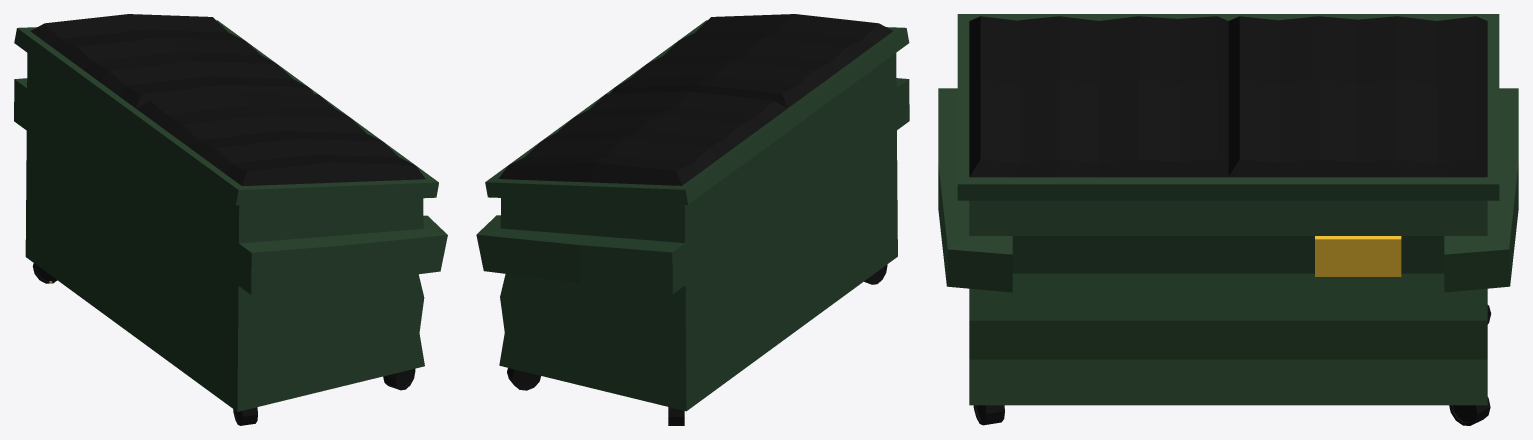
File: groemulli.fbx
3 renders of one model, left to right at view 1: azimuth 30°, elevation 25°; view 2: azimuth 150°, elevation 25°; view 3: azimuth 270°, elevation 25°, orthographic. The views are drawn at different scales.
Parts seen in each view (by area): view 1: Cube; view 2: Cube; view 3: Cube.
Boxes of the visible parts, x1,y1,x2,y2 form: Cube: [14, 14, 447, 425]; Cube: [476, 14, 909, 425]; Cube: [938, 14, 1518, 425].
Bounding box in the file's own units: 2.05 × 2.34 × 3.93.
Materials: 1 (1 with a texture image).
